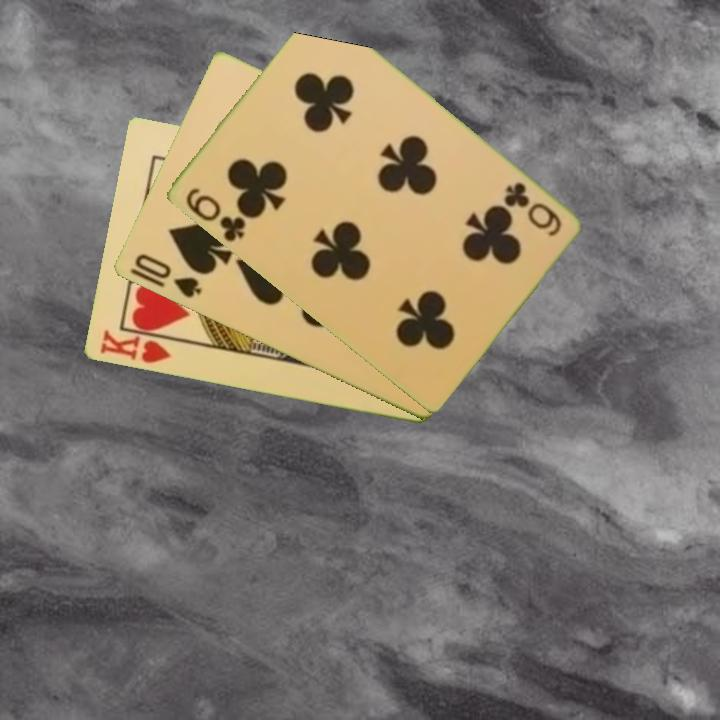10s: (130, 250, 204, 301)
6c: (181, 184, 248, 245), (499, 178, 564, 240)
Kh: (96, 326, 180, 367)
